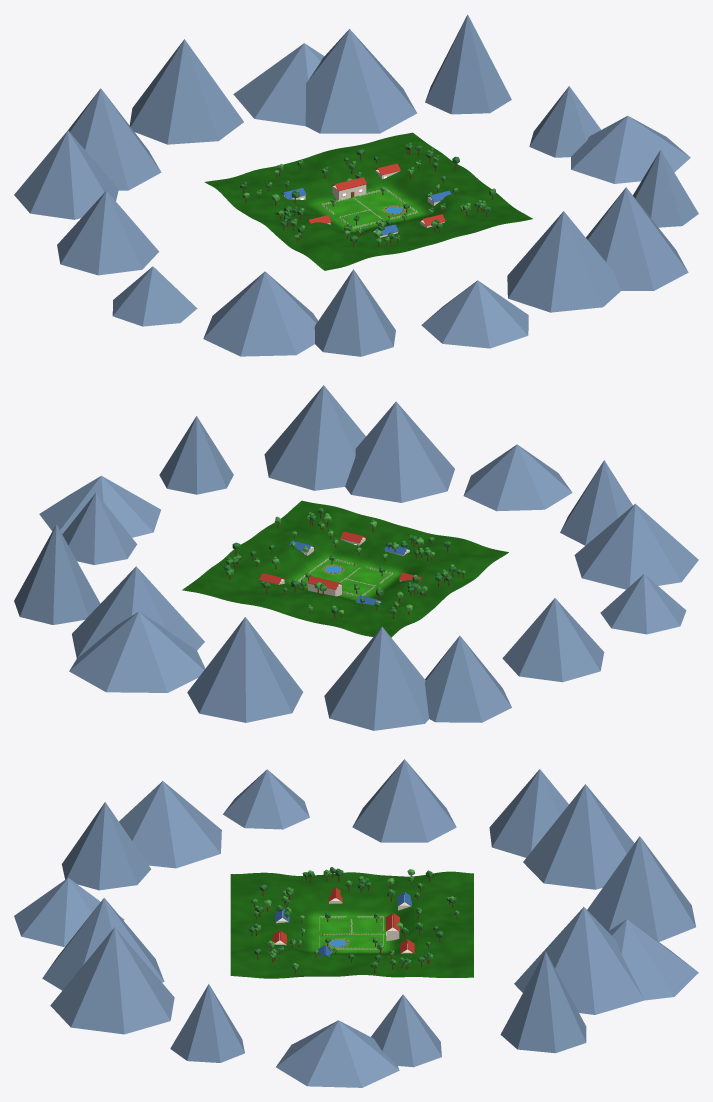
Rendered from garden.glb.
The picture shows the model from 3 angles, top to bottom: view 1: azimuth 30°, elevation 25°; view 2: azimuth 150°, elevation 25°; view 3: azimuth 270°, elevation 25°; orthographic projection.
Parts seen in each view (by area): view 1: mountain, terrain, leaf3, roofRed, leaf1, leaf2, wallCream; view 2: mountain, terrain, leaf3, leaf2, leaf1, roofRed; view 3: mountain, terrain, leaf3, leaf1, roofRed, leaf2, trunk.
Boxes of the visible parts, x1,y1,x2,y2 form: mountain: [14, 14, 698, 356]; terrain: [204, 132, 532, 270]; leaf3: [240, 142, 490, 242]; roofRed: [306, 163, 445, 225]; leaf1: [256, 143, 495, 243]; leaf2: [242, 161, 495, 239]; wallCream: [284, 169, 444, 237]; mountain: [14, 385, 698, 730]; terrain: [182, 500, 508, 637]; leaf3: [224, 507, 461, 614]; leaf2: [254, 513, 454, 614]; leaf1: [226, 512, 465, 610]; roofRed: [259, 531, 423, 589]; mountain: [14, 759, 698, 1087]; terrain: [230, 871, 473, 978]; leaf3: [249, 867, 456, 968]; leaf1: [251, 869, 459, 969]; roofRed: [272, 888, 414, 953]; leaf2: [253, 869, 454, 966]; trunk: [251, 874, 457, 973].
Bounding box in the file's own units: 263 × 34.68 × 258.
